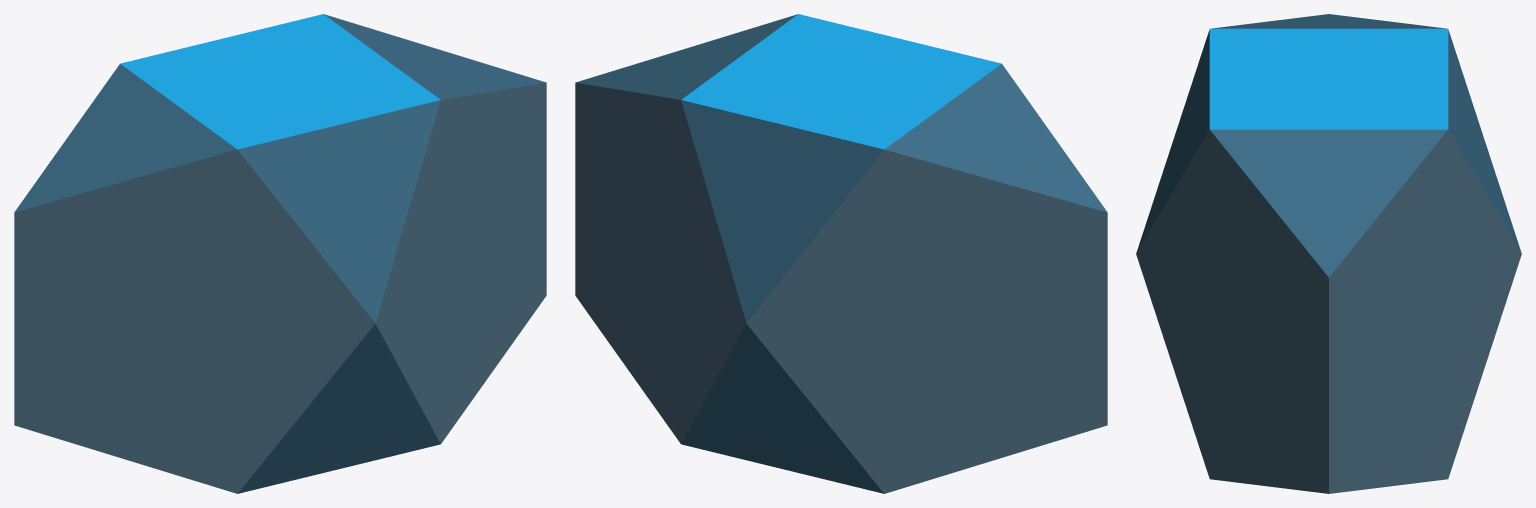
The model's file is J91.Bilunabirrotonda.gltf.
3 views of the same model, side by side, from view 1: azimuth 30°, elevation 25°; view 2: azimuth 150°, elevation 25°; view 3: azimuth 270°, elevation 25° (orthographic).
Visible parts, largest first — view 1: J91.Bilunabirrotonda; view 2: J91.Bilunabirrotonda; view 3: J91.Bilunabirrotonda.
Boxes of the visible parts, <box> form: J91.Bilunabirrotonda: <box>14,14,546,493</box>; J91.Bilunabirrotonda: <box>575,14,1107,493</box>; J91.Bilunabirrotonda: <box>1136,14,1521,493</box>.
Size of the model in its own units: 18.68 by 11.55 by 11.55.
